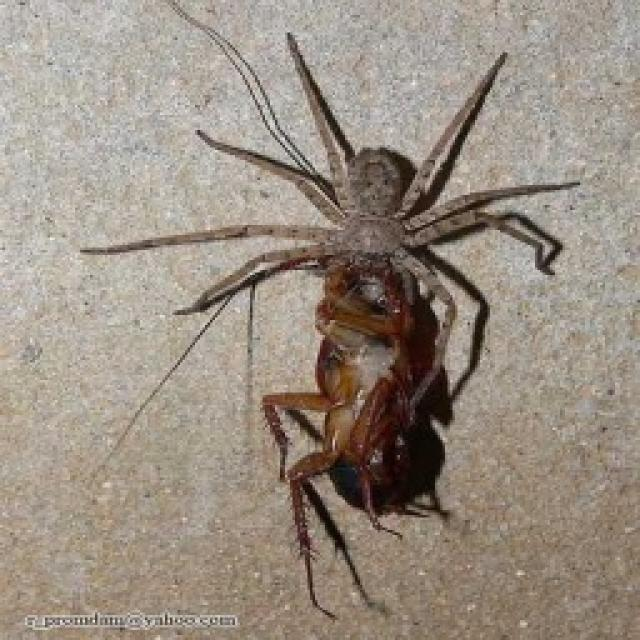cockroach: (264, 224, 466, 570)
